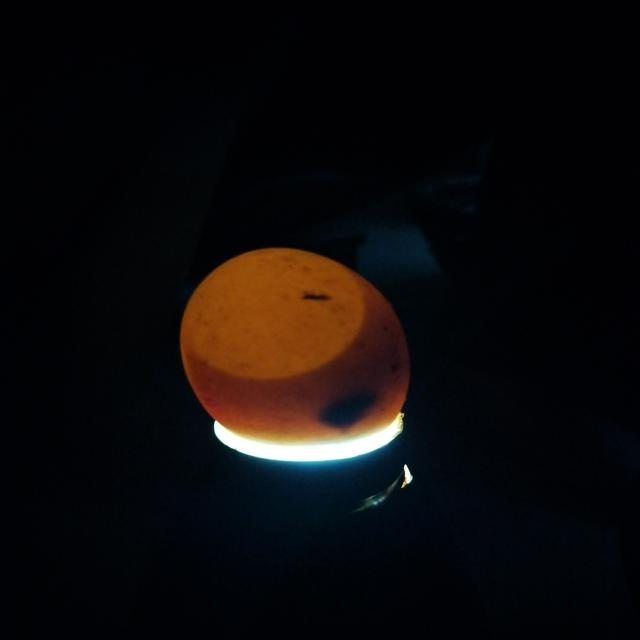Area Infectada: (318, 390, 378, 430)
